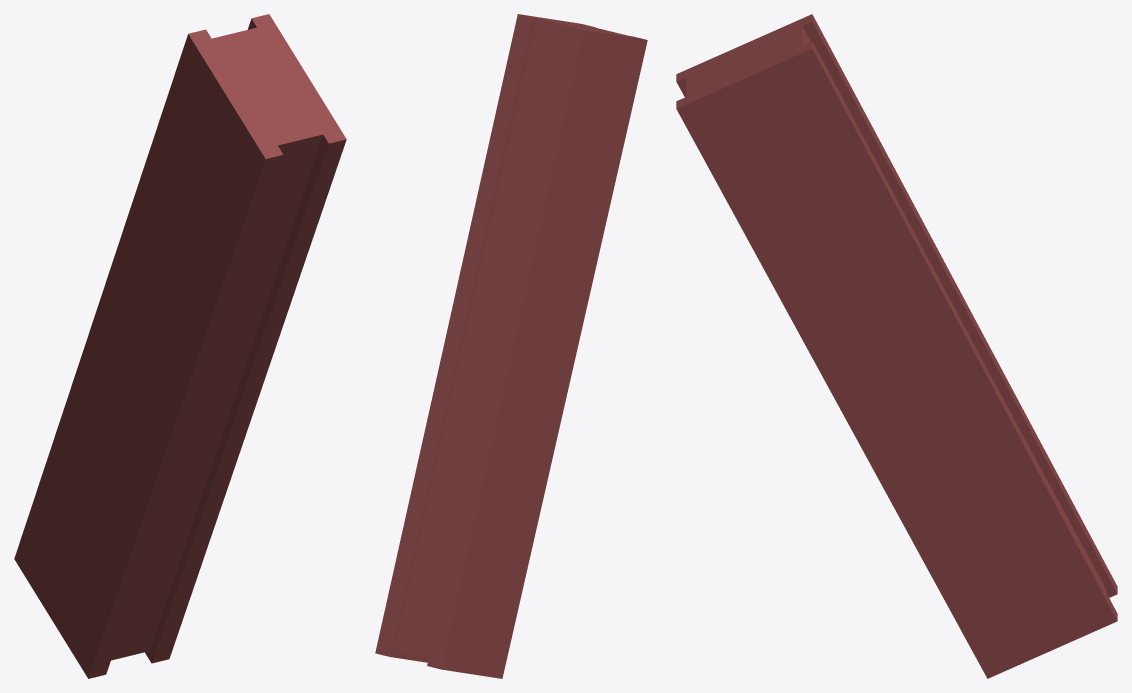
File: WM0_Magazine_LVL2.FBX
The picture shows the model from 3 angles, left to right: view 1: azimuth 30°, elevation 25°; view 2: azimuth 150°, elevation 25°; view 3: azimuth 270°, elevation 25°; orthographic projection. The views are drawn at different scales.
Visible parts, largest first — view 1: WM0_Magazine_LVL2; view 2: WM0_Magazine_LVL2; view 3: WM0_Magazine_LVL2.
Part boxes in pixels (<box>): WM0_Magazine_LVL2: <box>14,14,346,678</box>; WM0_Magazine_LVL2: <box>375,14,647,678</box>; WM0_Magazine_LVL2: <box>676,14,1117,678</box>.
Size of the model in its own units: 2.76 by 23.4 by 14.85.
